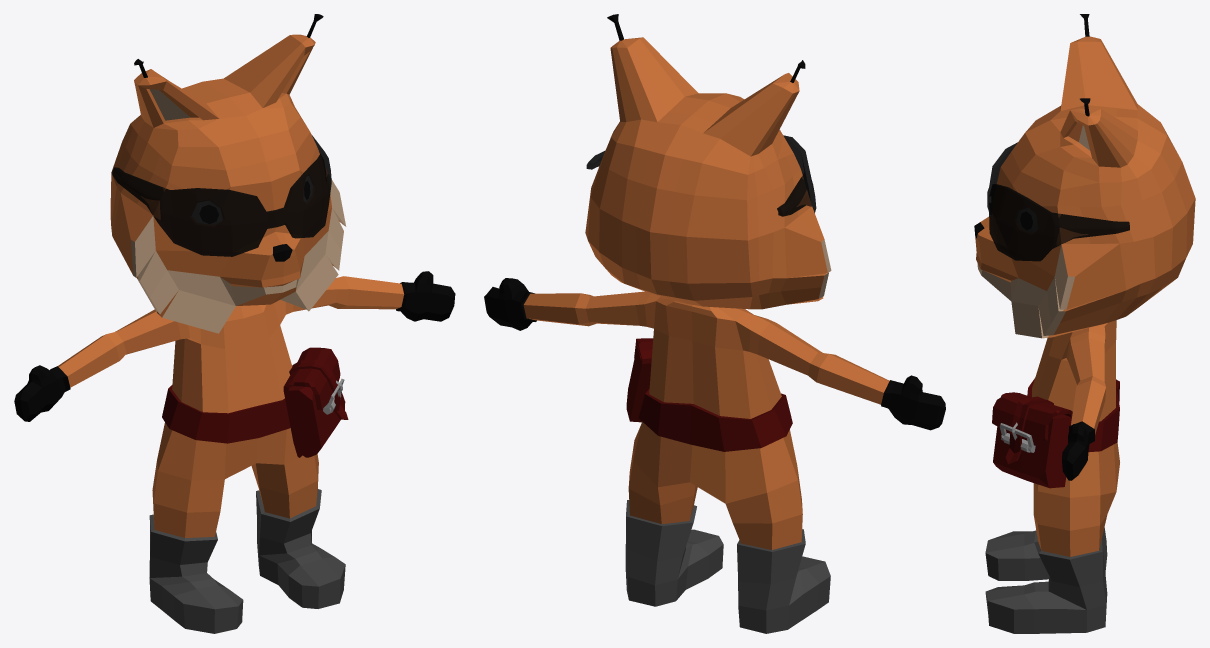
The model's file is Karakter.fbx.
3 views of the same model, side by side, from view 1: azimuth 30°, elevation 25°; view 2: azimuth 150°, elevation 25°; view 3: azimuth 270°, elevation 25° (orthographic). The views are drawn at different scales.
Parts seen in each view (by area): view 1: Karakter, Gozluk, BelCantasi; view 2: Karakter, BelCantasi, Gozluk; view 3: Karakter, BelCantasi, Gozluk.
Part boxes in pixels (x1,y1,x2,y2): Karakter: [14, 14, 455, 633]; Gozluk: [112, 135, 331, 256]; BelCantasi: [162, 347, 348, 457]; Karakter: [484, 14, 945, 633]; BelCantasi: [626, 338, 792, 451]; Gozluk: [586, 135, 816, 216]; Karakter: [974, 14, 1195, 633]; BelCantasi: [992, 378, 1119, 488]; Gozluk: [987, 142, 1129, 261].
Bounding box in the file's own units: 1.47 × 1.74 × 0.6457.
